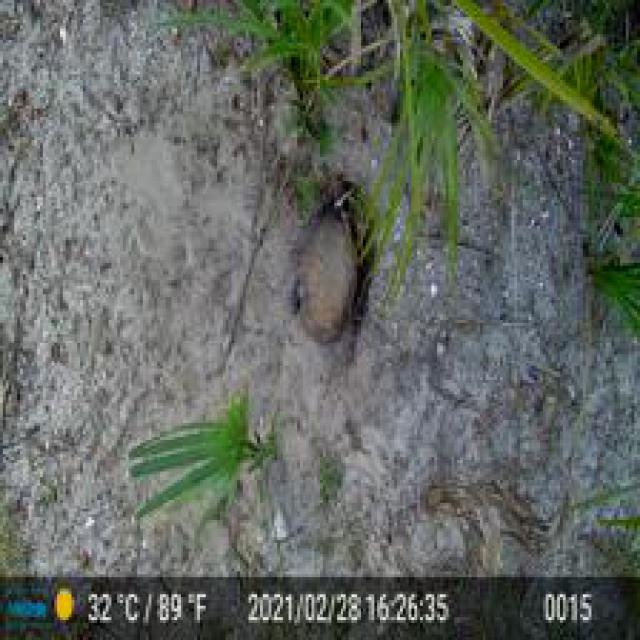tortoise: (286, 200, 358, 346)
